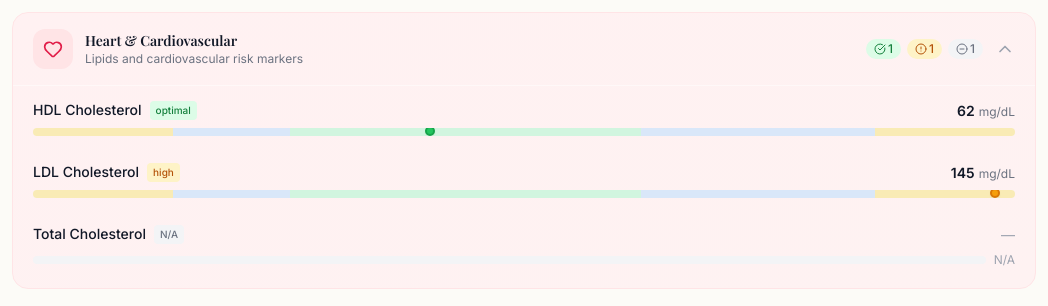
Test: BiomarkerCategoryCard › collapses when header is clicked again
Expected: the text "HDL Cholesterol" is shown, left=33, top=100, right=142, bottom=120
Click the heading "Heart & Cardiovascular".
click(161, 40)  # box left=85, top=31, right=237, bottom=50
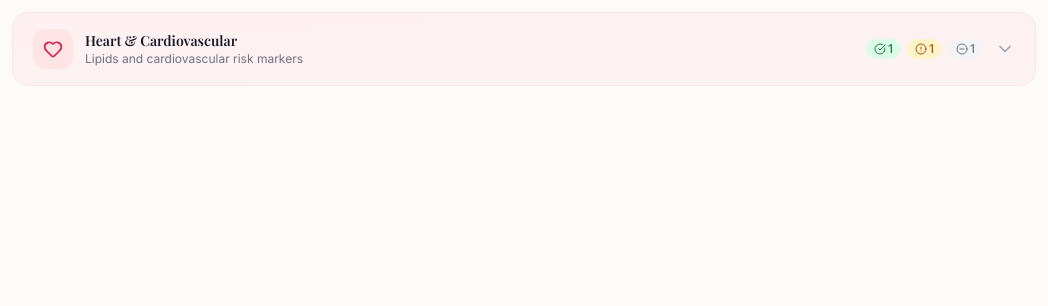
Now the button "HDL Cholesterol" is gone
